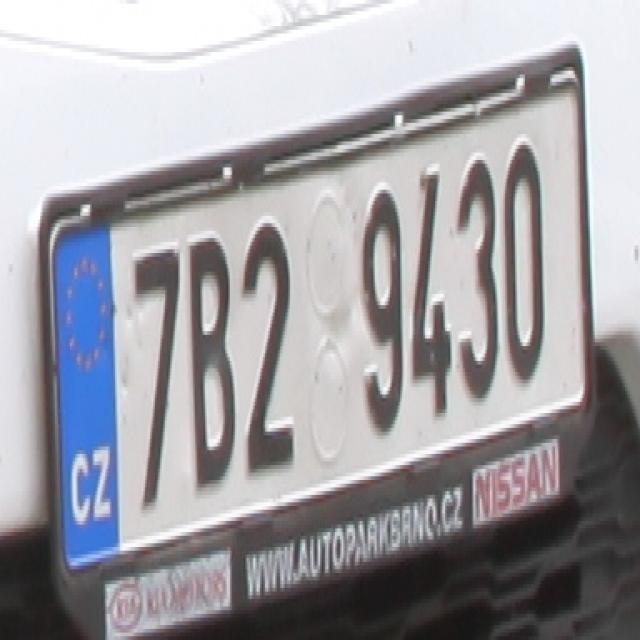0: (500, 134, 552, 402)
2: (240, 212, 297, 476)
3: (452, 145, 502, 421)
4: (407, 157, 455, 420)
7: (127, 238, 178, 506)
9: (355, 175, 405, 435)
B: (185, 231, 235, 487)
